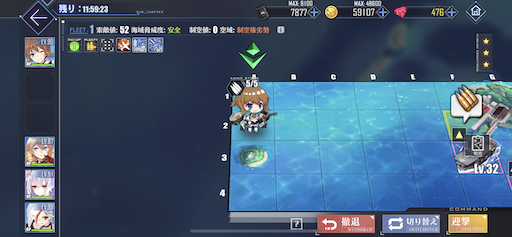lv1: (451, 126, 503, 175)
